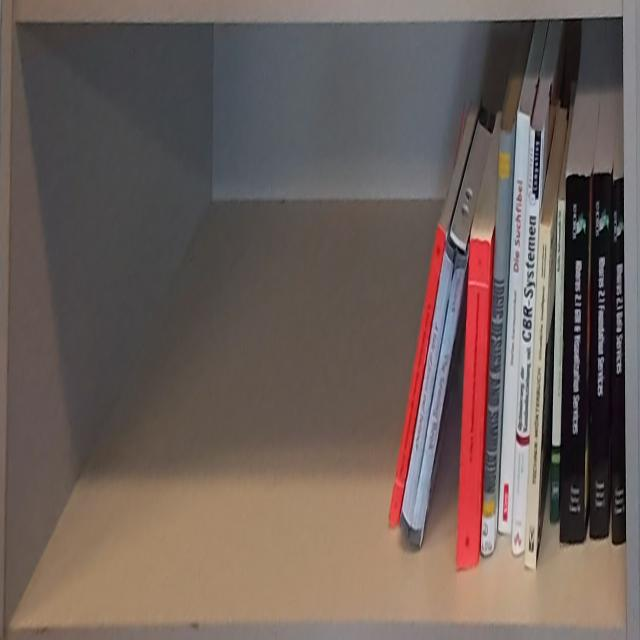Book Spine: (387, 227, 446, 527), (410, 253, 469, 551), (399, 240, 455, 542), (480, 127, 514, 556), (498, 110, 531, 533), (511, 127, 543, 554), (559, 173, 591, 543), (457, 240, 489, 569), (524, 223, 550, 569), (590, 176, 611, 540), (549, 199, 565, 523), (613, 177, 627, 546)
